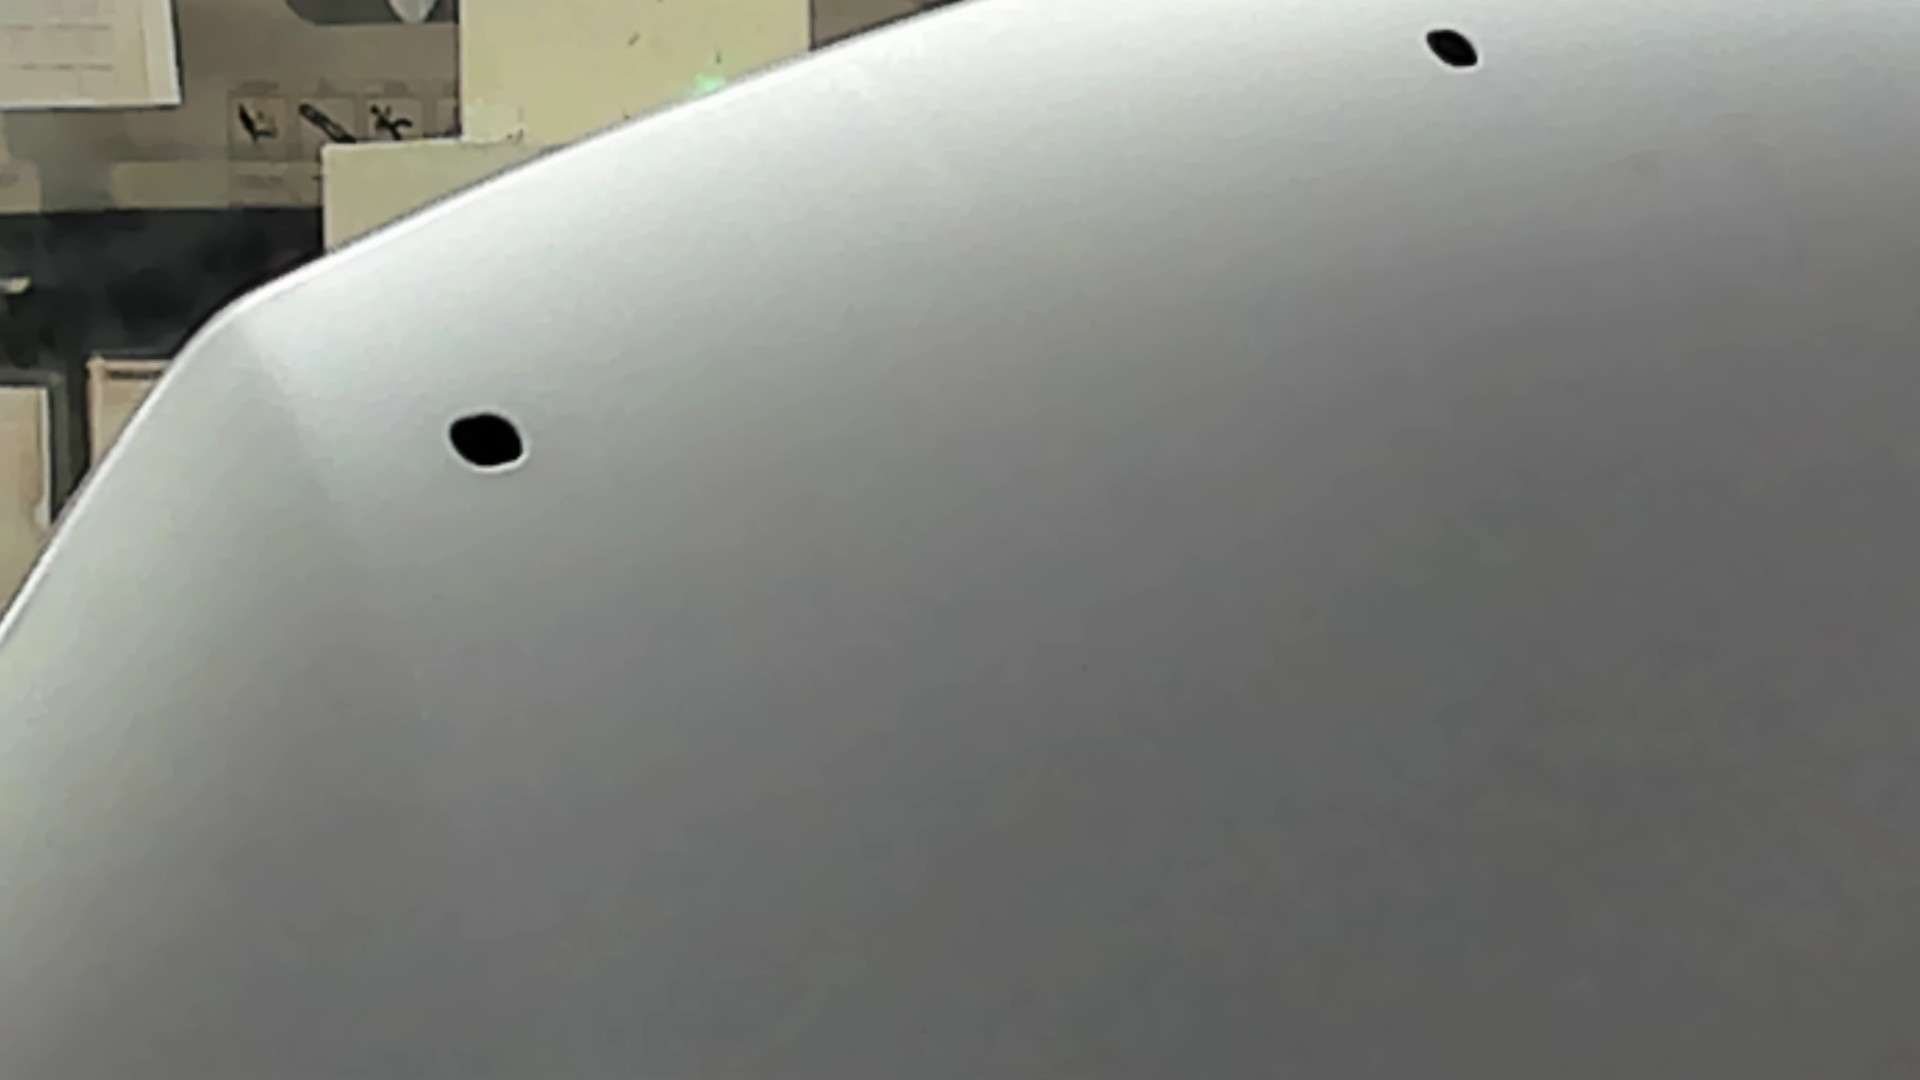chico: (427, 400, 566, 487), (1411, 11, 1501, 78)
